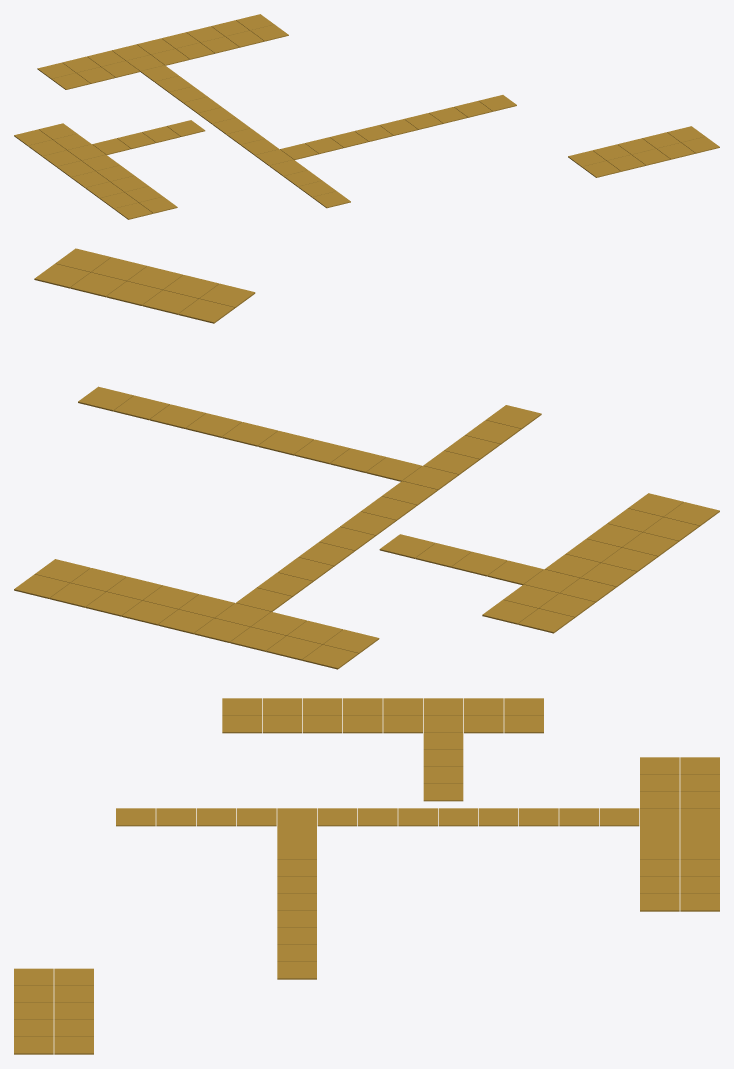
File: tactile.glb
3 views of the same model, one above another, from view 1: azimuth 30°, elevation 25°; view 2: azimuth 150°, elevation 25°; view 3: azimuth 270°, elevation 25° (orthographic). The views are drawn at different scales.
Visible parts, largest first — view 1: tactile; view 2: tactile; view 3: tactile.
Boxes of the visible parts, box(x1,y1,x2,y2) form: tactile: box(14, 14, 719, 219); tactile: box(14, 248, 719, 669); tactile: box(14, 698, 719, 1054).
Bounding box in the file's own units: 6.26 × 0.0107 × 5.25.
